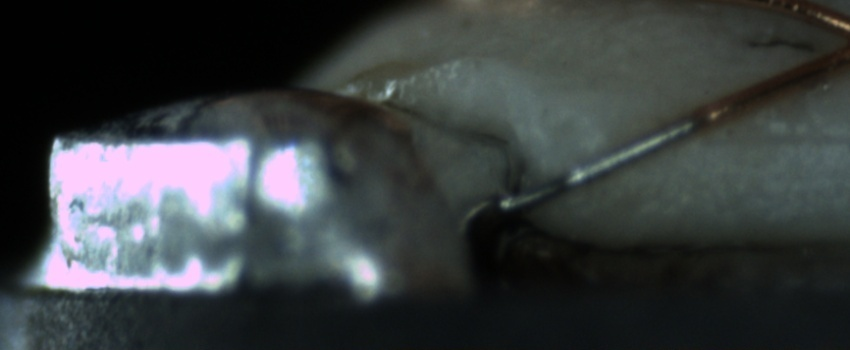CL: (805, 7, 850, 80)
DL: (677, 108, 849, 172)
TS: (498, 116, 699, 214)
TTCW: (500, 90, 741, 215)
